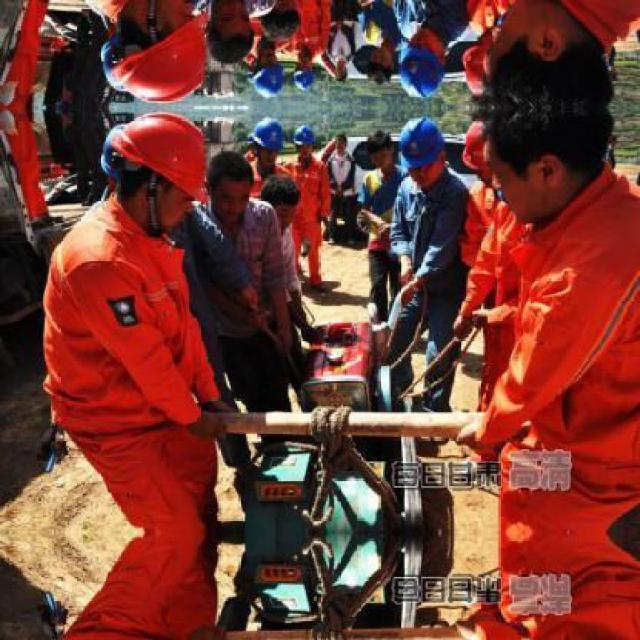Head: (478, 108, 612, 232), (477, 0, 612, 106), (204, 144, 253, 224), (204, 0, 256, 69), (257, 169, 300, 231), (257, 0, 301, 45), (363, 128, 394, 164), (362, 46, 392, 83), (329, 57, 349, 85), (329, 128, 349, 155)
Helmet: (105, 112, 217, 231), (103, 0, 217, 102), (461, 115, 514, 197), (461, 17, 514, 98), (402, 112, 442, 178), (402, 36, 442, 101), (246, 50, 283, 96), (246, 117, 283, 163), (296, 54, 318, 92), (296, 122, 318, 160)
